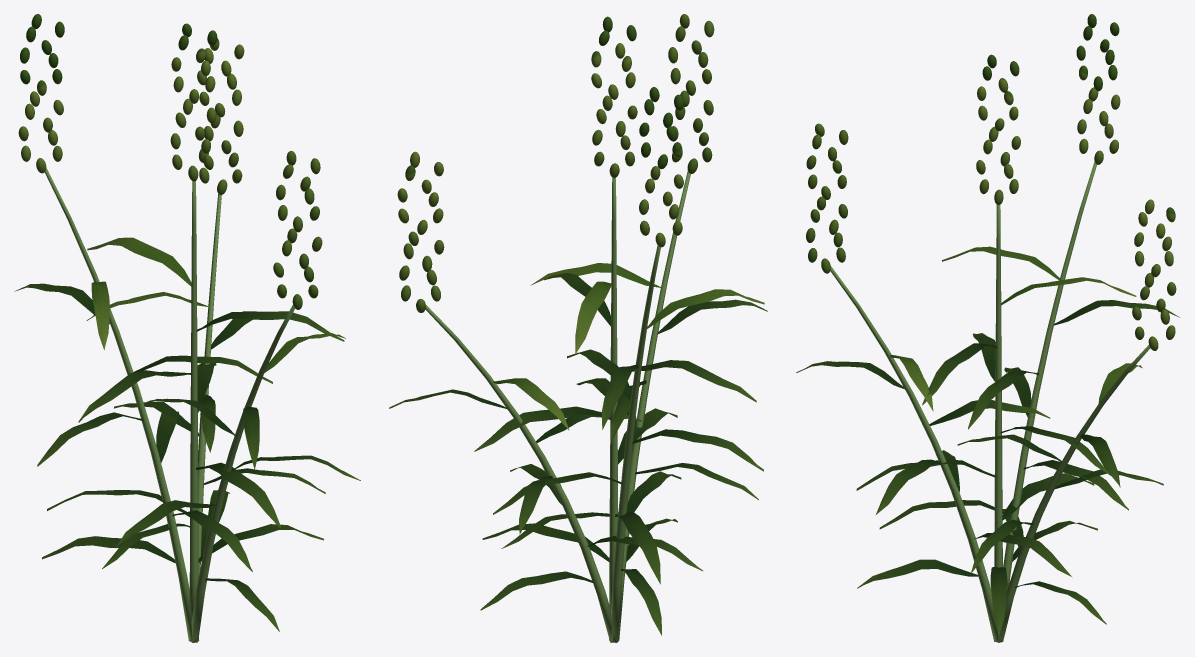
File: lavender-07-lod.glb
3 views of the same model, side by side, from view 1: azimuth 30°, elevation 25°; view 2: azimuth 150°, elevation 25°; view 3: azimuth 270°, elevation 25° (orthographic). The views are drawn at different scales.
Visible parts, largest first — view 1: lavender_stage_07_leaf_veins.013, lavender_stage_07_young_leaf.013, lavender_stage_07_stem_fibres.013; view 2: lavender_stage_07_leaf_veins.013, lavender_stage_07_young_leaf.013, lavender_stage_07_stem_fibres.013; view 3: lavender_stage_07_leaf_veins.013, lavender_stage_07_young_leaf.013, lavender_stage_07_stem_fibres.013.
Boxes of the visible parts, box(x1,y1,x2,y2) form: lavender_stage_07_leaf_veins.013: box(14, 283, 360, 631); lavender_stage_07_young_leaf.013: box(18, 14, 345, 372); lavender_stage_07_stem_fibres.013: box(44, 168, 294, 642); lavender_stage_07_leaf_veins.013: box(389, 273, 767, 635); lavender_stage_07_young_leaf.013: box(397, 14, 764, 430); lavender_stage_07_stem_fibres.013: box(425, 171, 690, 642); lavender_stage_07_leaf_veins.013: box(796, 300, 1179, 635); lavender_stage_07_young_leaf.013: box(806, 14, 1176, 411); lavender_stage_07_stem_fibres.013: box(830, 162, 1150, 642).
Bounding box in the file's own units: 0.2777 × 0.5208 × 0.3123.
3 materials, 2 textured.
